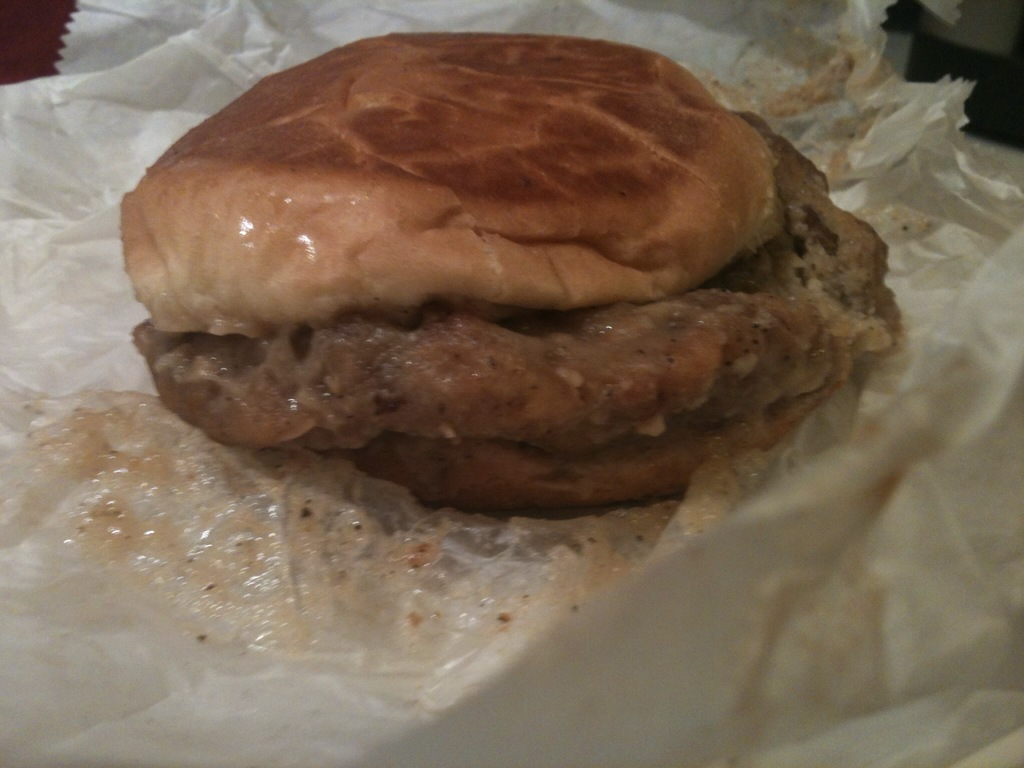sandwich: (115, 28, 908, 524)
